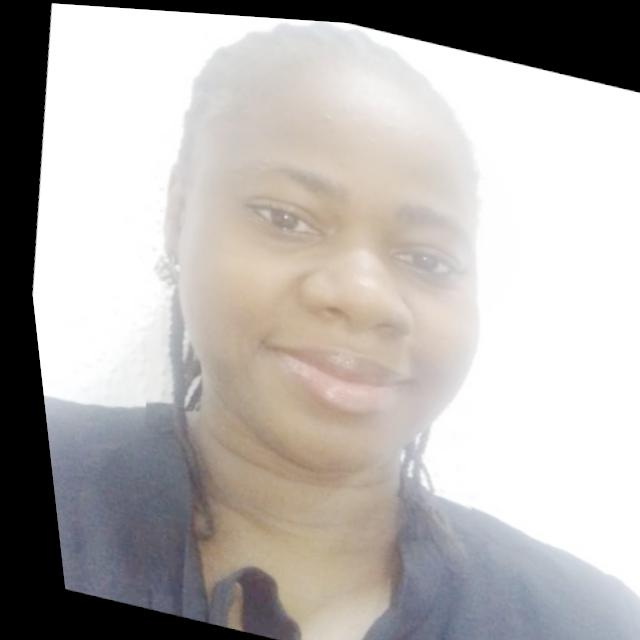happy: (97, 5, 542, 513)
